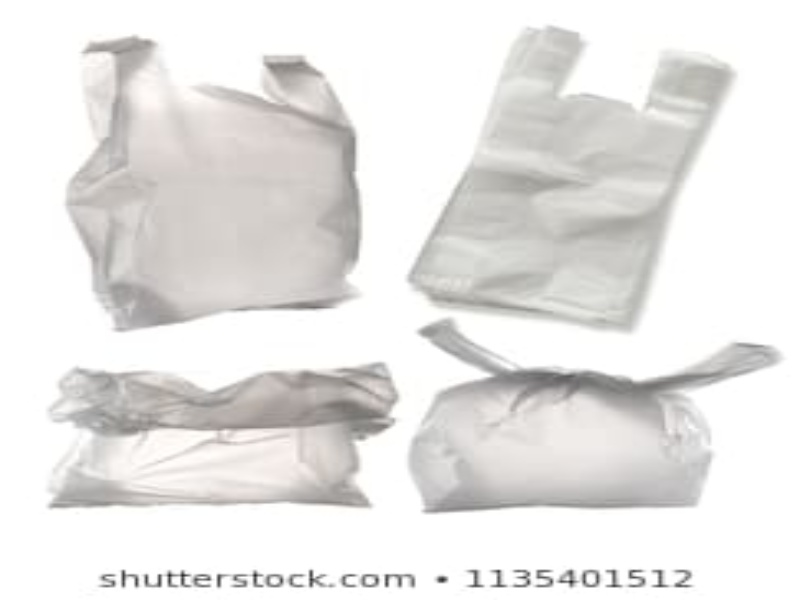plastic-bag: (398, 22, 736, 331), (62, 33, 367, 330), (407, 321, 788, 514), (44, 360, 396, 513)
